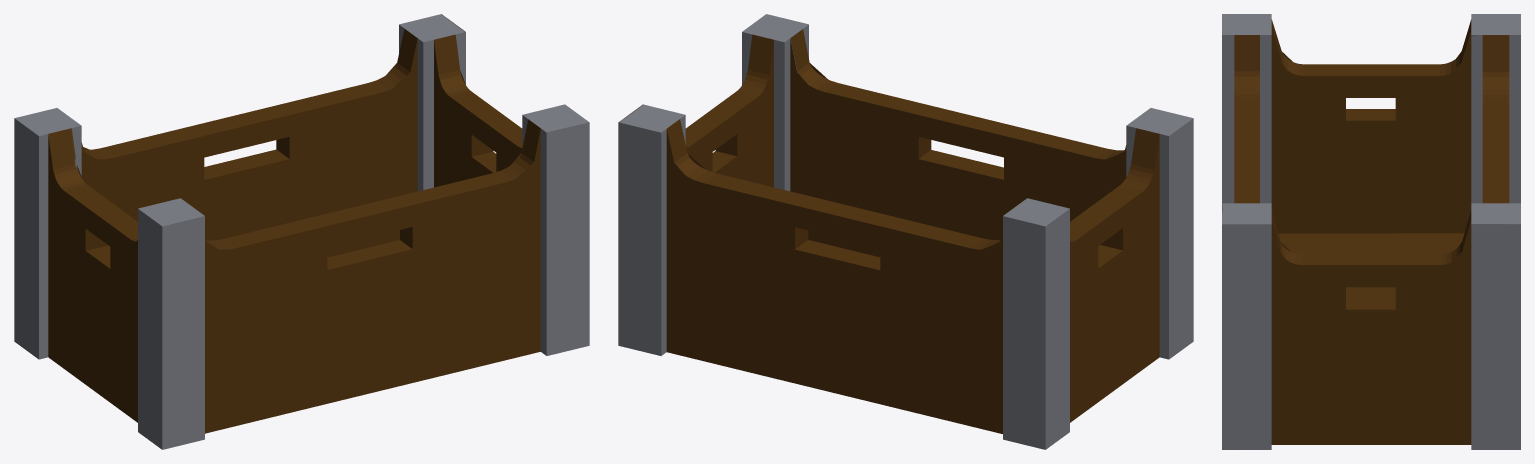
File: Caja_Tipo1.fbx
The picture shows the model from 3 angles, left to right: view 1: azimuth 30°, elevation 25°; view 2: azimuth 150°, elevation 25°; view 3: azimuth 270°, elevation 25°; orthographic projection.
Visible parts, largest first — view 1: Cubo.019; view 2: Cubo.019; view 3: Cubo.019.
Boxes of the visible parts, x1,y1,x2,y2 form: Cubo.019: (14,14,589,449); Cubo.019: (618,14,1193,449); Cubo.019: (1222,14,1520,449).
Bounding box in the file's own units: 100 × 50.04 × 60.
1 material, 1 textured.
